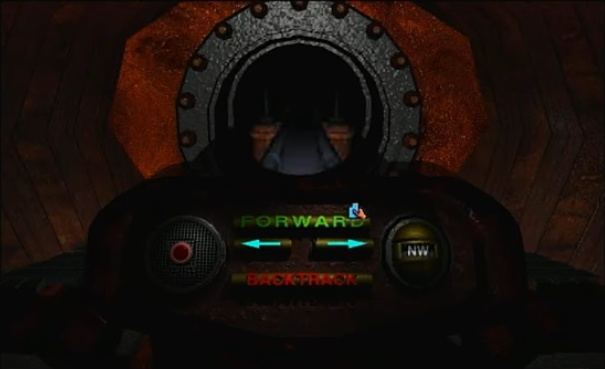Keep: (344, 197, 372, 221)
